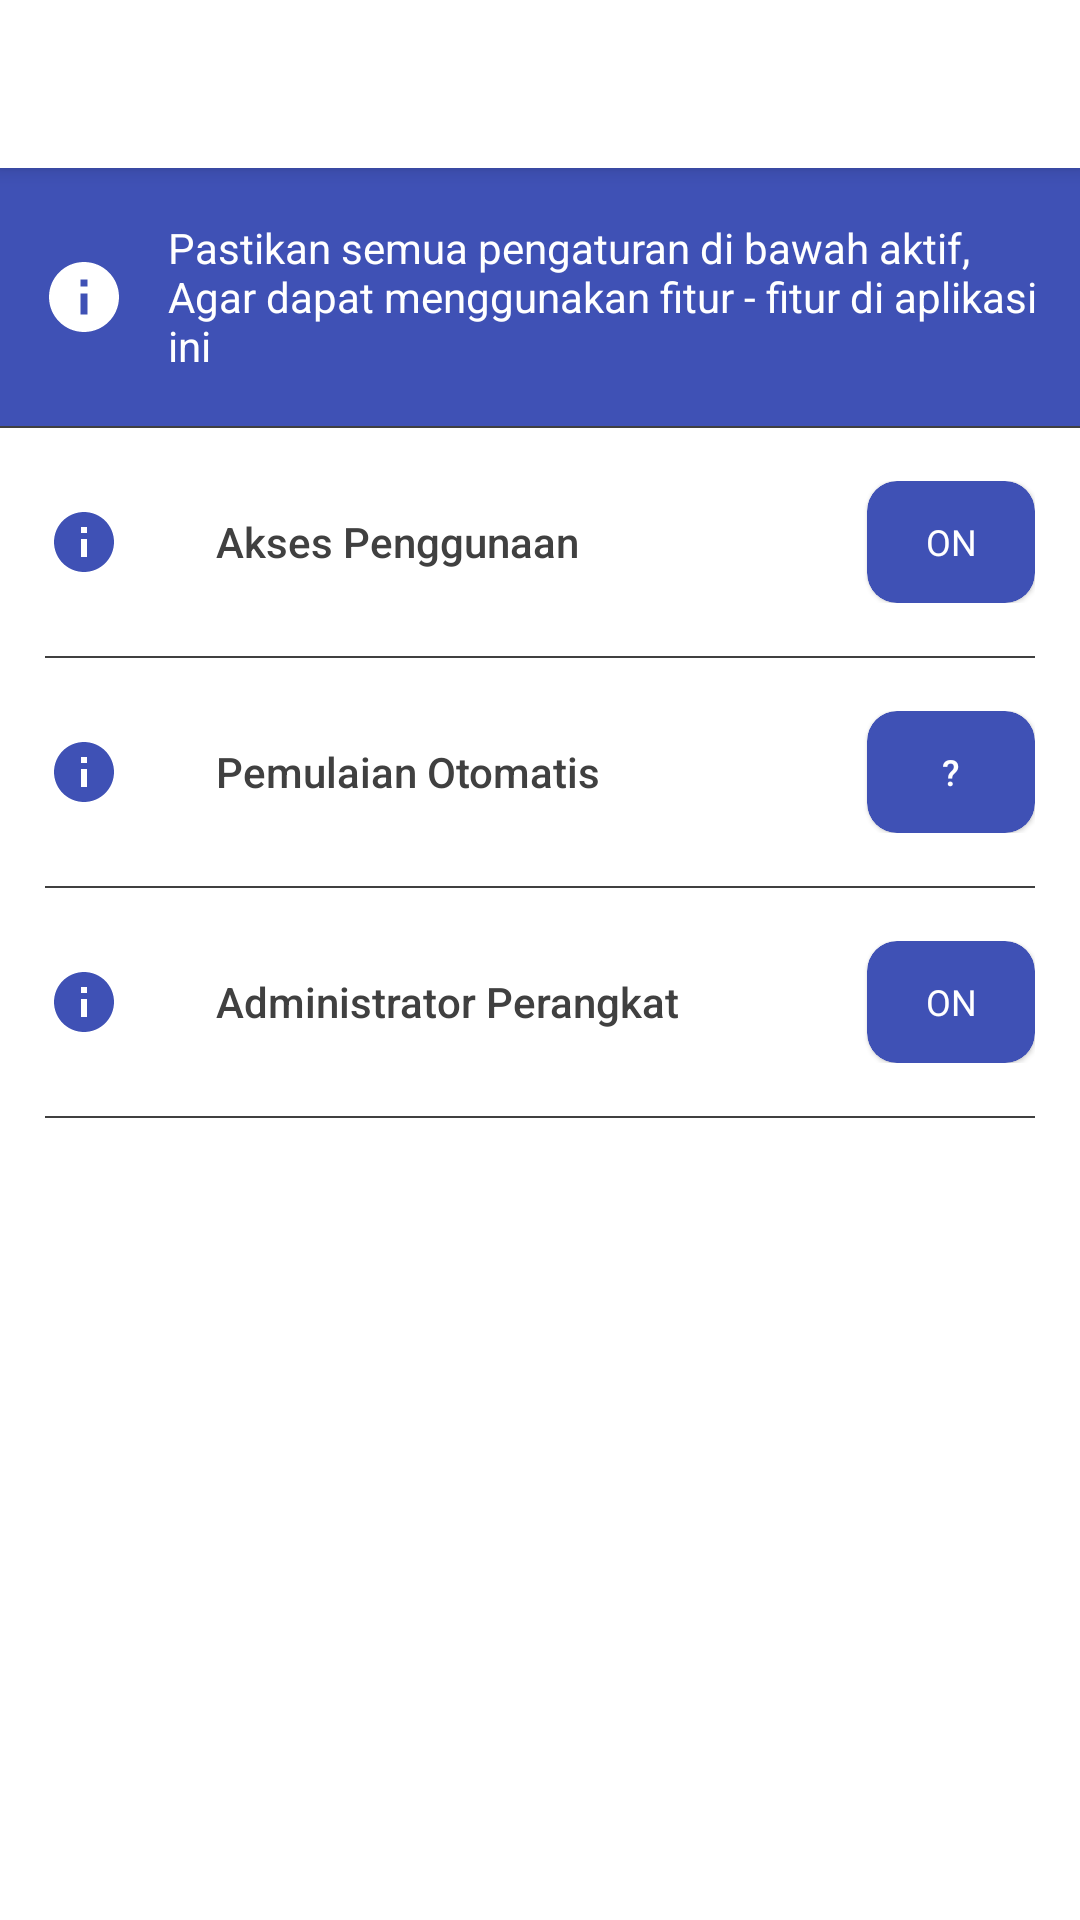

Locate icon controls on the screen. Image size 1080 × 1920, boxes as (x1, y1, x2, y2).
info: (49, 262, 119, 332), (54, 512, 114, 572), (54, 742, 114, 802), (54, 972, 114, 1032)
